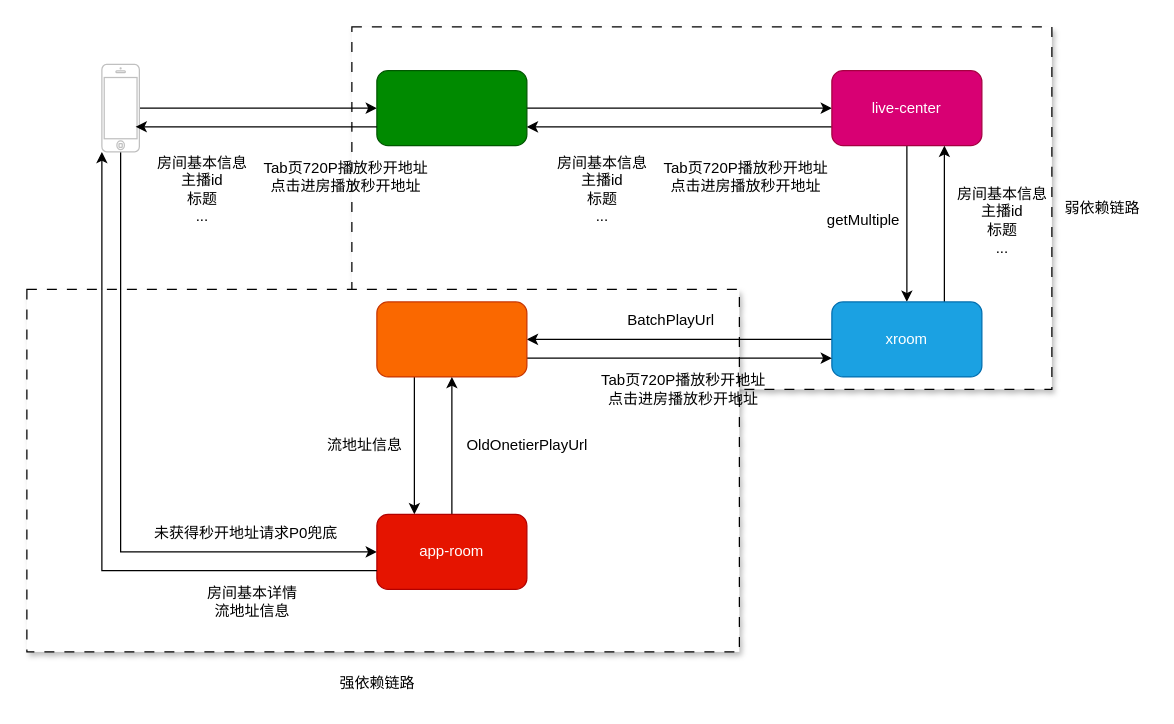
Some shapes in this 1174 by 724 pixel diagram are drawn without their labels. The shapes that lost their labels are listed below. From the top down, each one's centre as x and y in pixels, then its label:
At (451,107): "网关".
At (451,339): "playurl".
